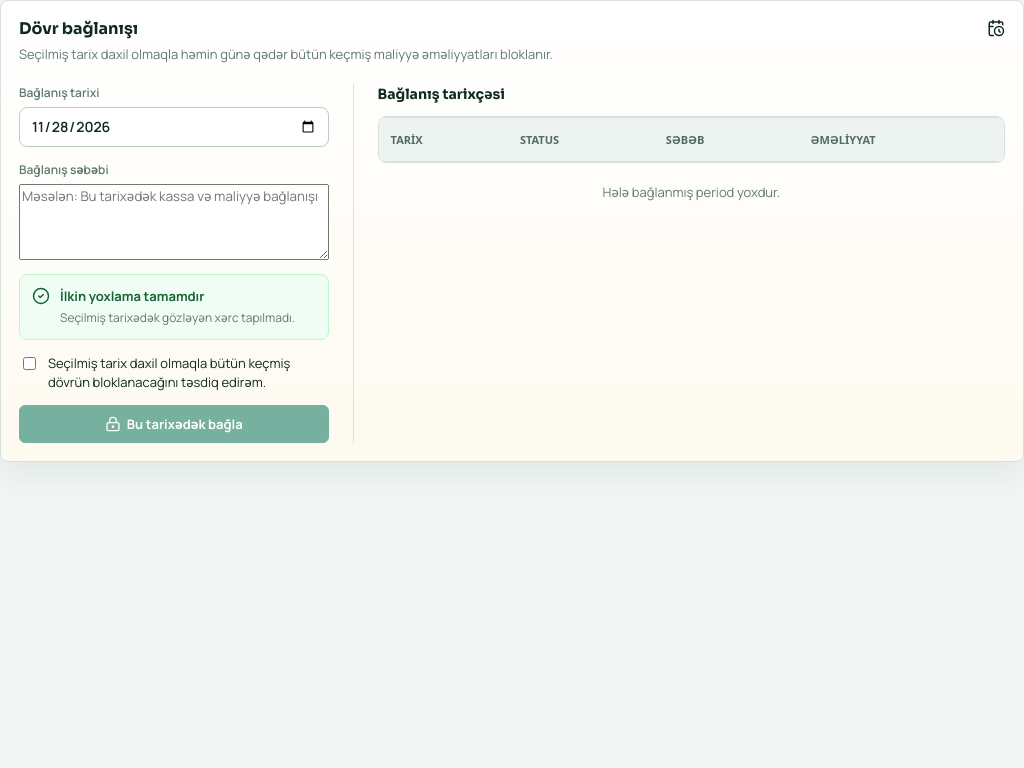
Test: finance period close panel › explains a missing permission instead of the raw database error
This screenshot has width=1024, height=768.
Type "Bağlanış" into the text box with placeholder "Məsələn: Bu tarixədək kassa və maliyyə bağlanışı".
click(174, 222); type("Bağlanış")  # box 19,184 -> 329,260
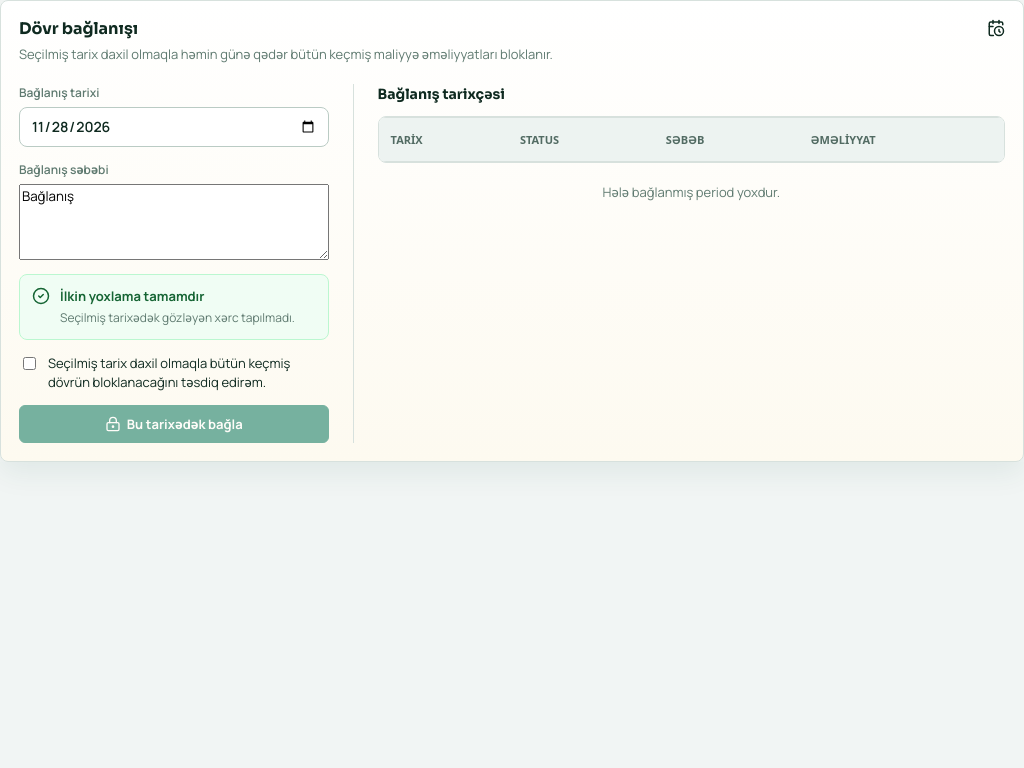
Click the checkbox.
click(30, 363)  # box 23,357 -> 36,370
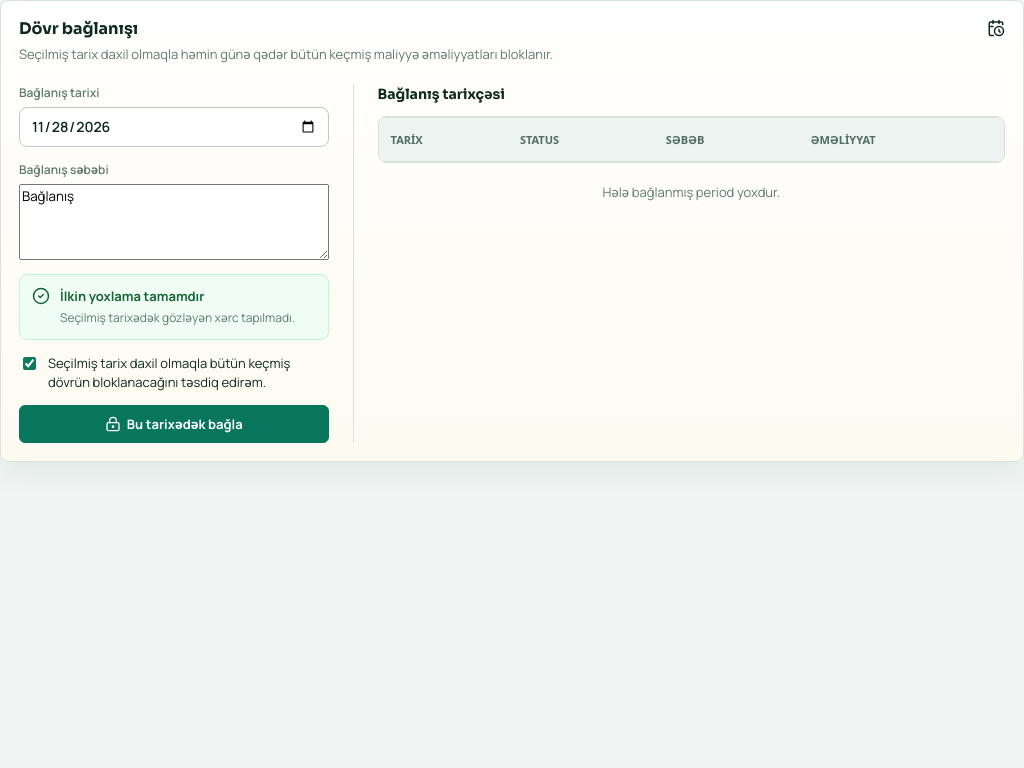
Click the button "Bu tarixədək bağla".
click(174, 424)  # box 19,405 -> 329,443
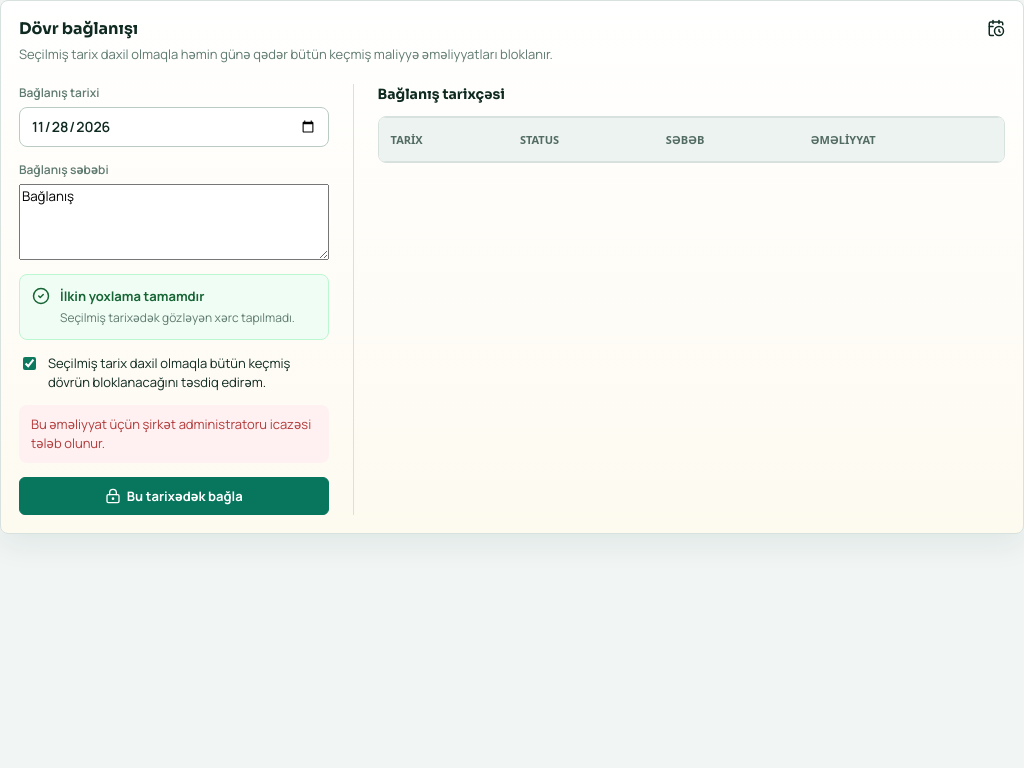
Check: the message reads "Bu əməliyyat üçün şirkət administratoru icazəsi tələb olunur.", box 31,415 -> 311,452
